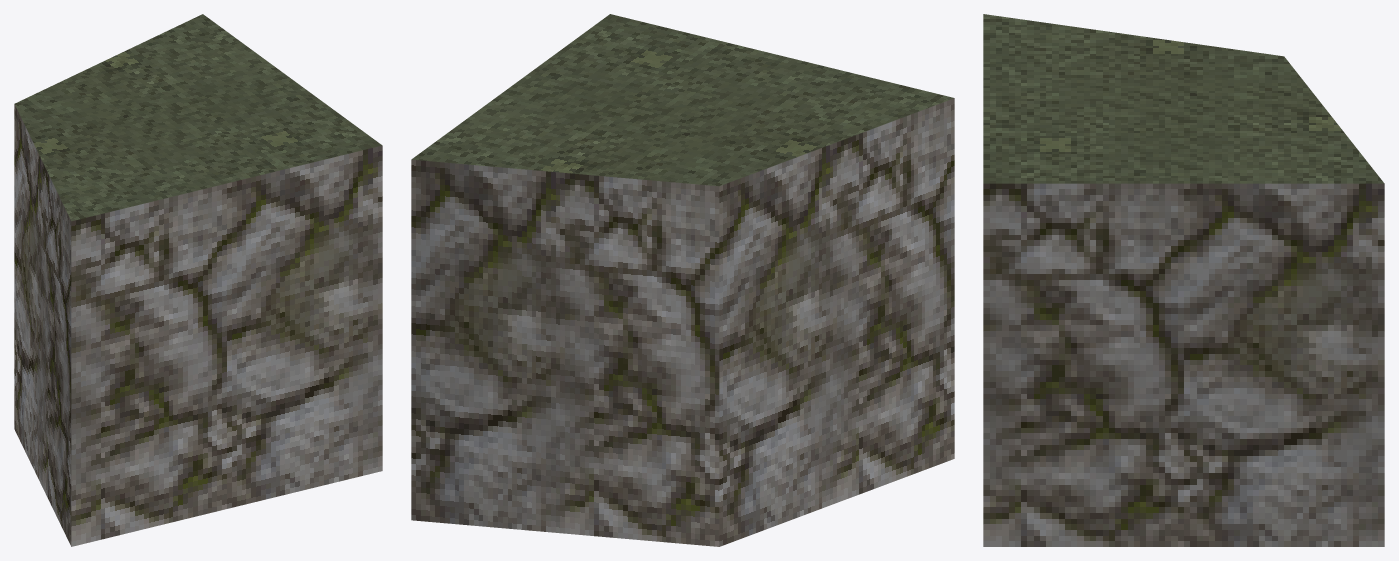
The picture shows the model from 3 angles, left to right: view 1: azimuth 30°, elevation 25°; view 2: azimuth 150°, elevation 25°; view 3: azimuth 270°, elevation 25°; orthographic projection. The views are drawn at different scales.
Visible parts, largest first — view 1: cliff-corner; view 2: cliff-corner; view 3: cliff-corner.
Boxes of the visible parts, x1,y1,x2,y2 form: cliff-corner: [14, 14, 382, 546]; cliff-corner: [411, 14, 954, 546]; cliff-corner: [983, 14, 1384, 546].
Size of the model in its own units: 1 by 1 by 1.
Materials: 2 (2 with a texture image).
